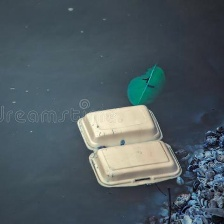foam_box: (73, 100, 185, 191)
